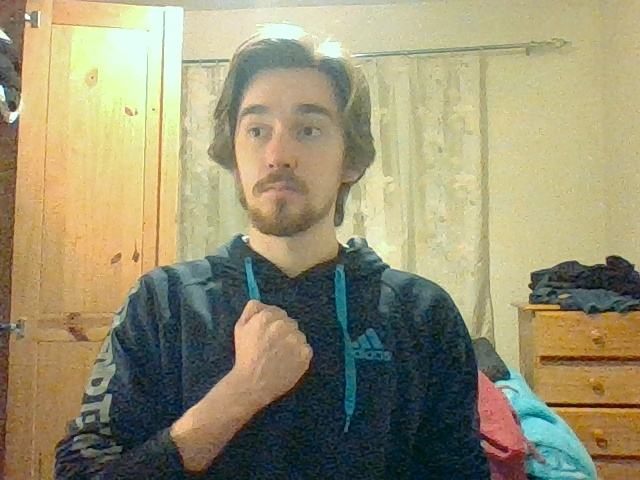my: (232, 298, 312, 399)
